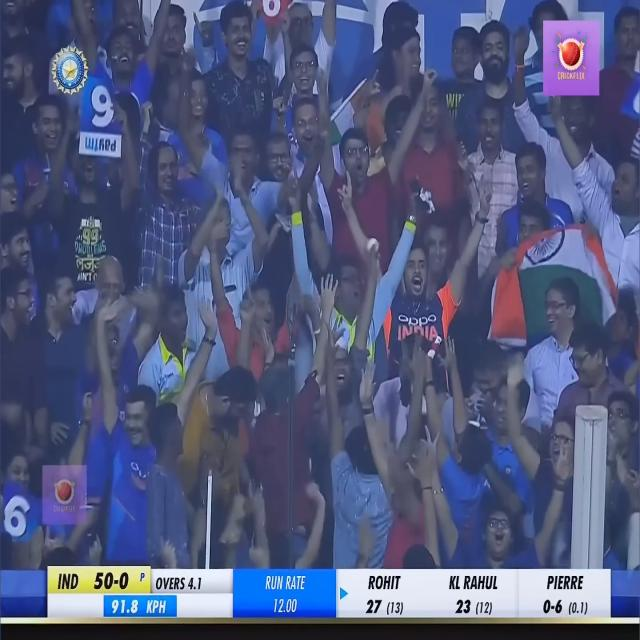fully_visible: (88, 128, 122, 164)
